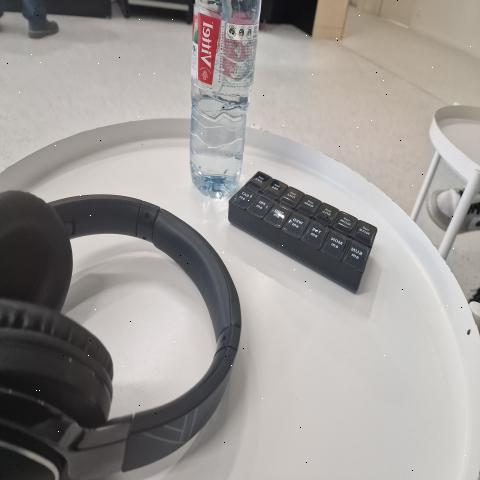PillBox: (220, 152, 406, 296)
